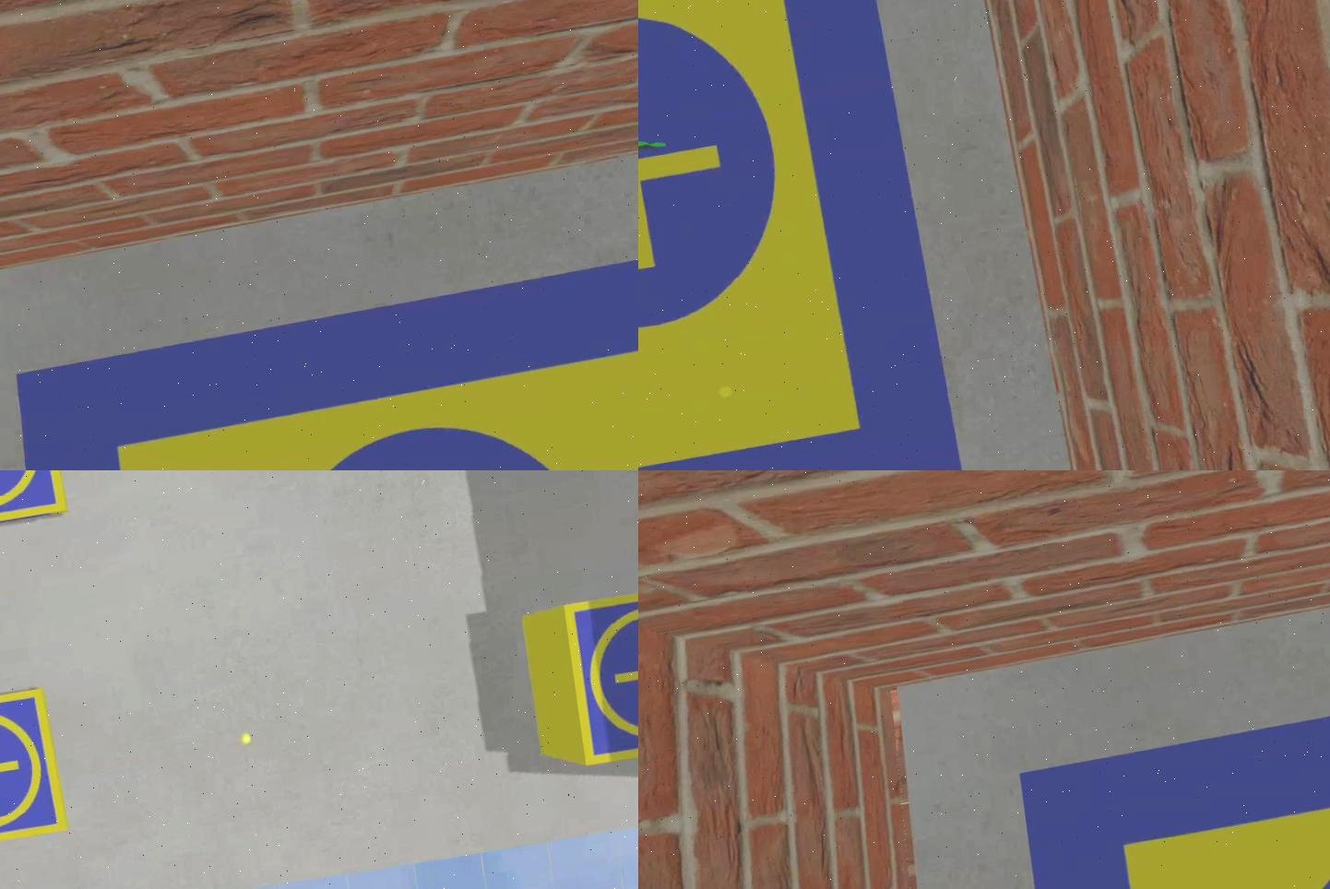large_base: (639, 1, 973, 471), (1, 227, 639, 471), (1011, 626, 1330, 889)
small_base: (560, 575, 639, 771), (1, 686, 71, 857), (1, 471, 69, 538)
